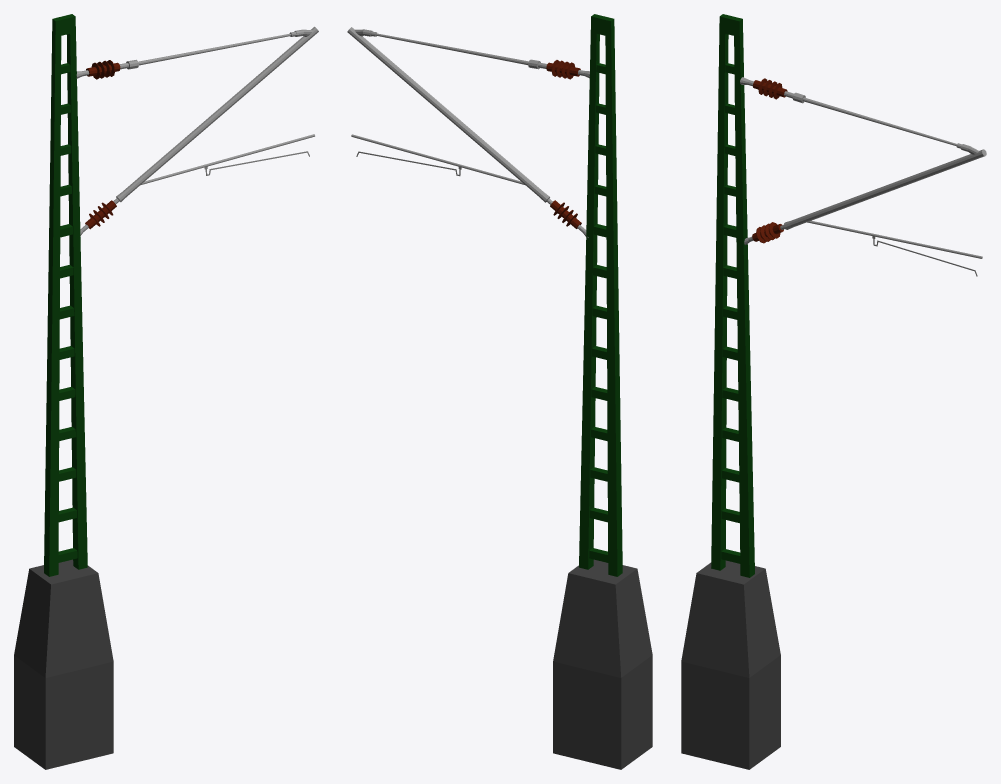
File: PoleRamp.obj
The picture shows the model from 3 angles, left to right: view 1: azimuth 30°, elevation 25°; view 2: azimuth 150°, elevation 25°; view 3: azimuth 330°, elevation 25°; orthographic projection.
Parts seen in each view (by area): view 1: PfostRamp_Cube.002; view 2: PfostRamp_Cube.002; view 3: PfostRamp_Cube.002.
Boxes of the visible parts, x1,y1,x2,y2 form: PfostRamp_Cube.002: (14, 14, 318, 769); PfostRamp_Cube.002: (347, 14, 652, 769); PfostRamp_Cube.002: (681, 14, 986, 769).
Size of the model in its own units: 4.03 by 9.79 by 0.7631.
